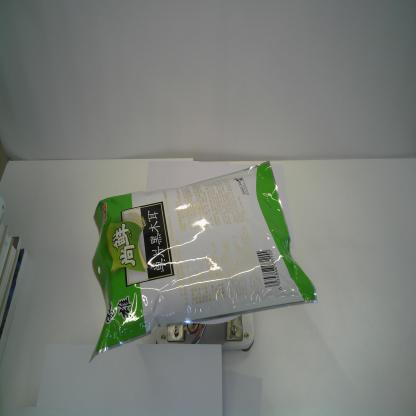Dried Food: (89, 159, 318, 363)
